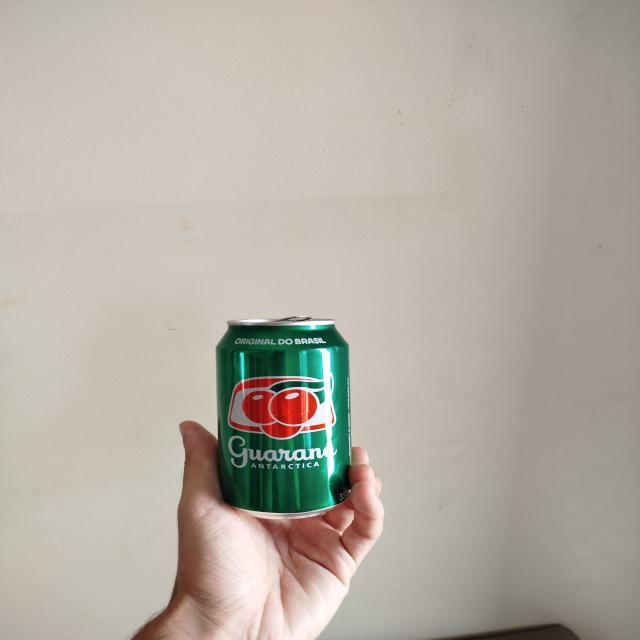Guarana: (214, 318, 354, 521)
